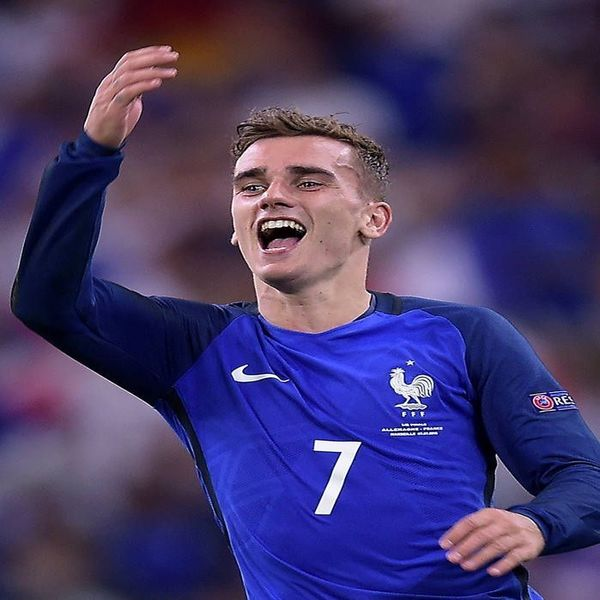nike: (228, 357, 295, 393)
